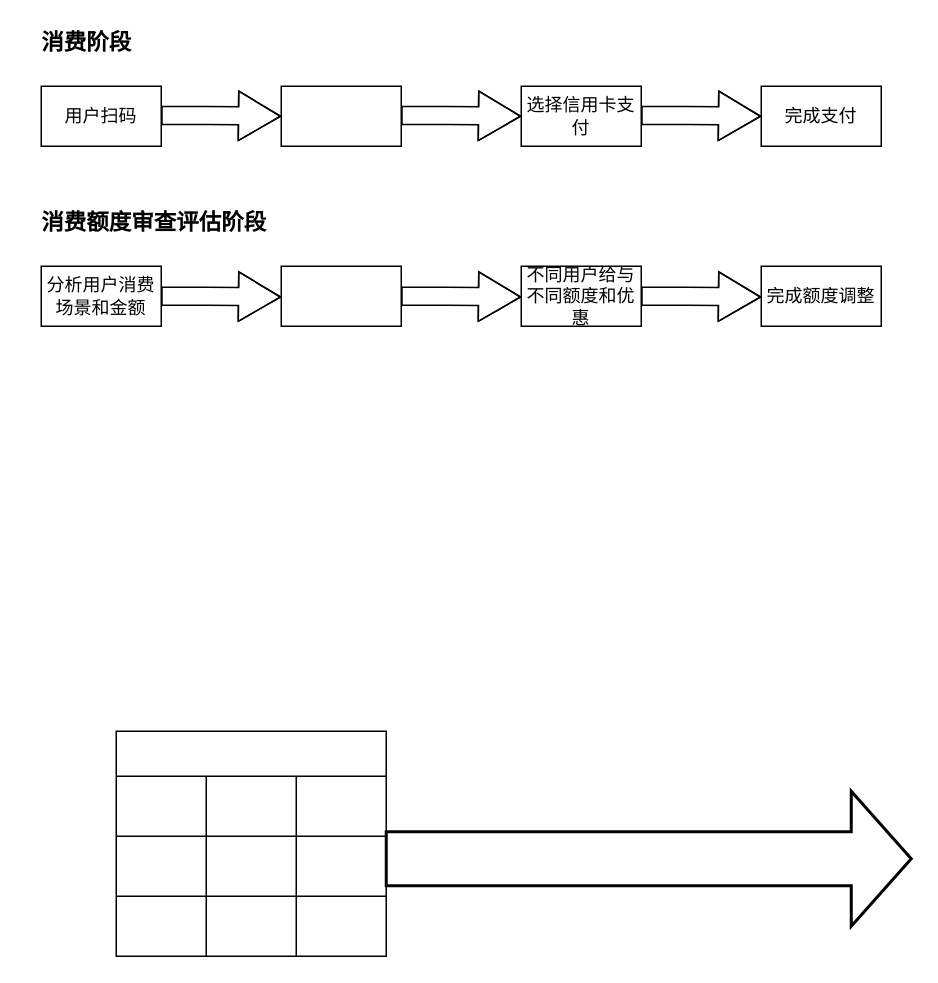
This 938x983 diagram has some shape labels left out. The box of each missing label's shape, as (x1, y1, x2, y2) in pixels:
Table: (115, 730, 386, 956)
给用户进行分类: (280, 265, 401, 326)
进入信用卡小程序页面: (280, 85, 401, 146)
